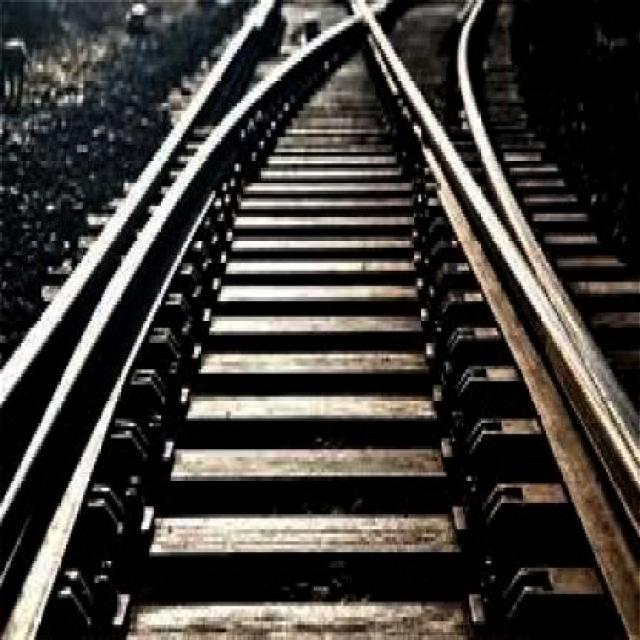rail: (3, 3, 640, 636)
